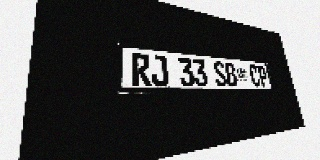3: (178, 57, 195, 86), (192, 59, 208, 86)
B: (224, 62, 238, 87)
C: (248, 64, 261, 87)
J: (150, 55, 169, 86)
P: (256, 65, 269, 87)
R: (131, 53, 151, 86)
S: (213, 61, 228, 86)
